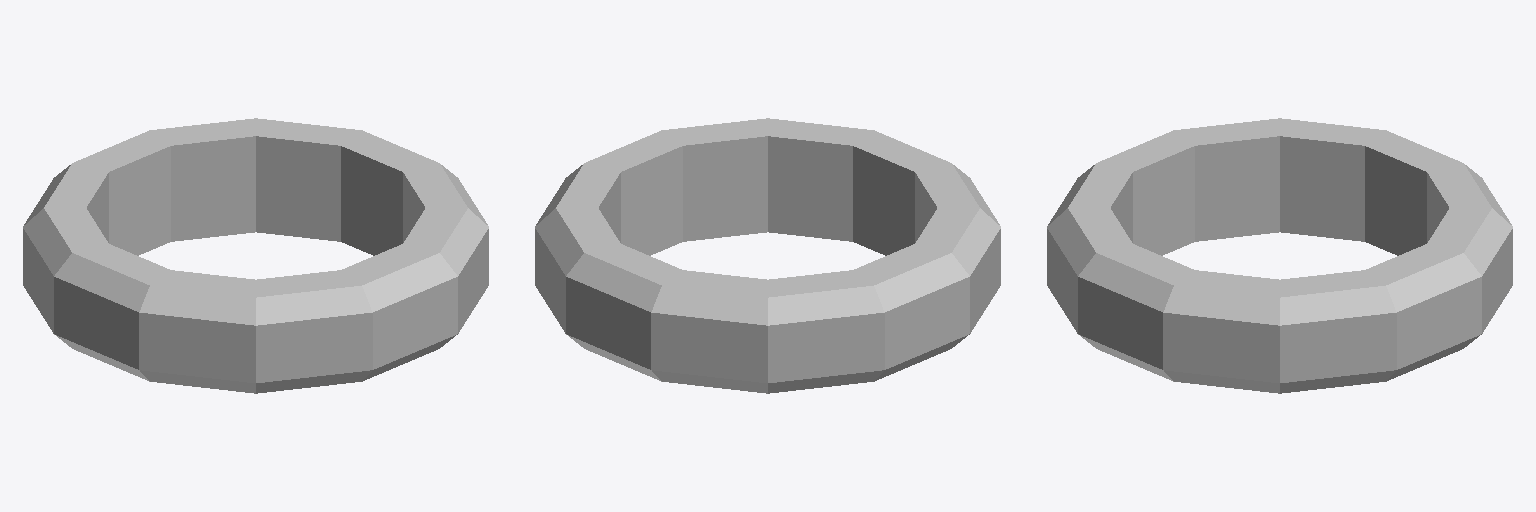
Rendered from Model_PipeRing.obj.
3 views of the same model, side by side, from view 1: azimuth 30°, elevation 25°; view 2: azimuth 150°, elevation 25°; view 3: azimuth 270°, elevation 25° (orthographic).
Parts seen in each view (by area): view 1: PipeRing; view 2: PipeRing; view 3: PipeRing.
Part boxes in pixels (left/top/right/bottom): PipeRing: left=23, top=118, right=488, bottom=393; PipeRing: left=535, top=118, right=1000, bottom=393; PipeRing: left=1047, top=118, right=1512, bottom=393.
Size of the model in its own units: 2.2 by 0.5 by 2.2.